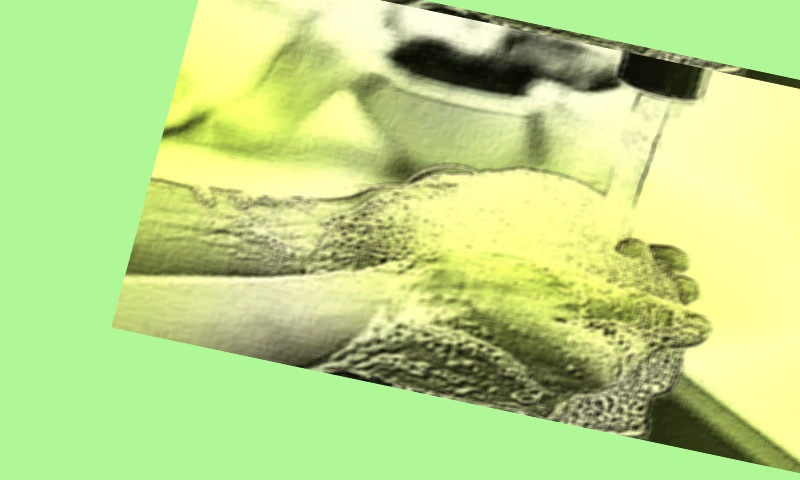washing hand: (354, 27, 799, 452)
